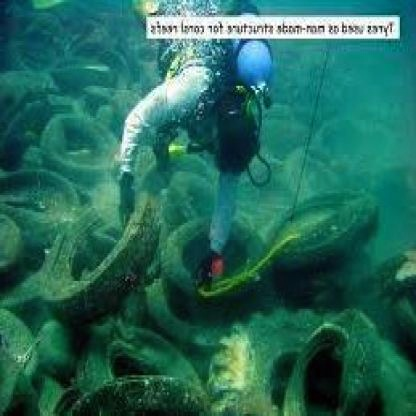tire: (247, 300, 381, 416), (51, 204, 148, 309), (62, 334, 183, 416), (37, 105, 140, 195), (172, 199, 255, 309)
